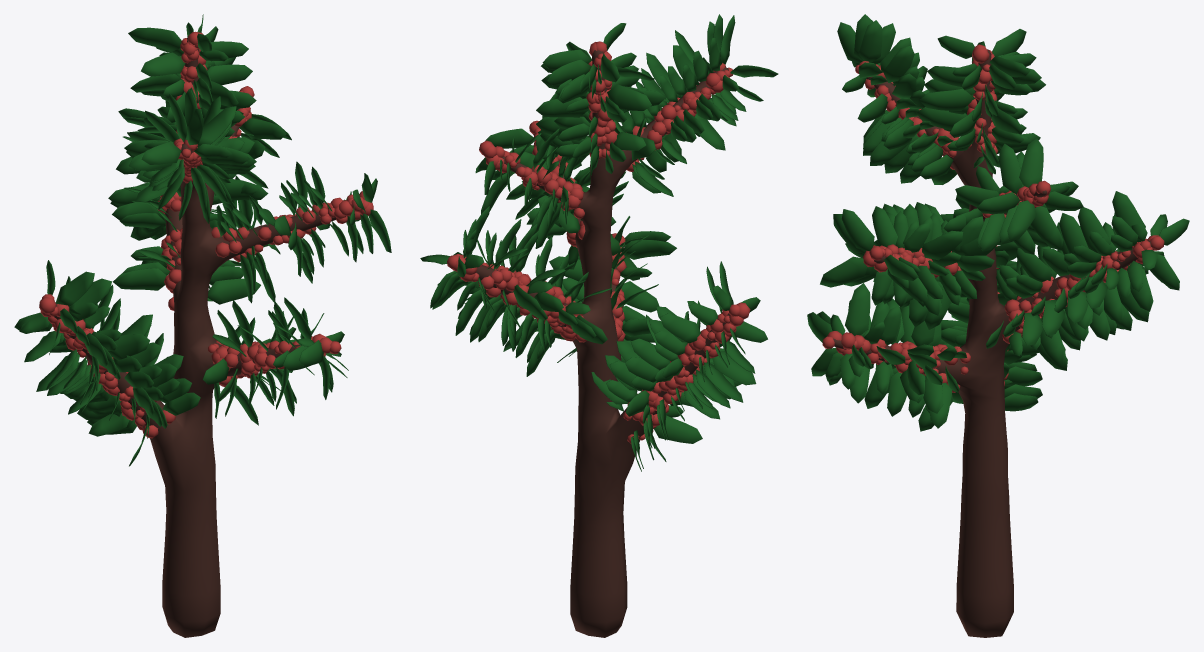
File: Planta_Cafe_Full.fbx
The picture shows the model from 3 angles, left to right: view 1: azimuth 30°, elevation 25°; view 2: azimuth 150°, elevation 25°; view 3: azimuth 270°, elevation 25°; orthographic projection. The views are drawn at different scales.
Parts seen in each view (by area): view 1: PlantaDeCafe.001, PlantaDeCafe.001|hoja.001|Dupli|282, PlantaDeCafe.001|hoja.001|Dupli|50, PlantaDeCafe.001|hoja.001|Dupli|276, PlantaDeCafe.001|hoja.001|Dupli|8, PlantaDeCafe.001|hoja.001|Dupli|101, PlantaDeCafe.001|hoja.001|Dupli|261, PlantaDeCafe.001|hoja.001|Dupli|16, PlantaDeCafe.001|hoja.001|Dupli|364, PlantaDeCafe.001|hoja.001|Dupli|73, PlantaDeCafe.001|hoja.001|Dupli|263, PlantaDeCafe.001|hoja.001|Dupli|299 (+4 smaller); view 2: PlantaDeCafe.001, PlantaDeCafe.001|hoja.001|Dupli|298, PlantaDeCafe.001|hoja.001|Dupli|418, PlantaDeCafe.001|hoja.001|Dupli|5, PlantaDeCafe.001|hoja.001|Dupli|88, PlantaDeCafe.001|hoja.001|Dupli|77, PlantaDeCafe.001|hoja.001|Dupli|400, PlantaDeCafe.001|hoja.001|Dupli|199, PlantaDeCafe.001|hoja.001|Dupli|45, PlantaDeCafe.001|hoja.001|Dupli|20, PlantaDeCafe.001|hoja.001|Dupli|72, PlantaDeCafe.001|hoja.001|Dupli|78 (+3 smaller); view 3: PlantaDeCafe.001, PlantaDeCafe.001|hoja.001|Dupli|410, PlantaDeCafe.001|hoja.001|Dupli|9, PlantaDeCafe.001|hoja.001|Dupli|201, PlantaDeCafe.001|hoja.001|Dupli|365, PlantaDeCafe.001|hoja.001|Dupli|362, PlantaDeCafe.001|hoja.001|Dupli|357, PlantaDeCafe.001|hoja.001|Dupli|202, PlantaDeCafe.001|hoja.001|Dupli|178, PlantaDeCafe.001|hoja.001|Dupli|264, PlantaDeCafe.001|hoja.001|Dupli|367, PlantaDeCafe.001|hoja.001|Dupli|190 (+18 smaller).
Boxes of the visible parts, left/top/right/bottom form: PlantaDeCafe.001: left=54, top=36, right=335, bottom=637; PlantaDeCafe.001|hoja.001|Dupli|282: left=113, top=268, right=166, bottom=290; PlantaDeCafe.001|hoja.001|Dupli|50: left=128, top=27, right=181, bottom=51; PlantaDeCafe.001|hoja.001|Dupli|276: left=207, top=278, right=260, bottom=304; PlantaDeCafe.001|hoja.001|Dupli|8: left=141, top=52, right=185, bottom=76; PlantaDeCafe.001|hoja.001|Dupli|101: left=55, top=271, right=94, bottom=305; PlantaDeCafe.001|hoja.001|Dupli|261: left=198, top=106, right=236, bottom=145; PlantaDeCafe.001|hoja.001|Dupli|16: left=207, top=64, right=252, bottom=85; PlantaDeCafe.001|hoja.001|Dupli|364: left=239, top=118, right=286, bottom=139; PlantaDeCafe.001|hoja.001|Dupli|73: left=108, top=334, right=149, bottom=360; PlantaDeCafe.001|hoja.001|Dupli|263: left=141, top=142, right=181, bottom=164; PlantaDeCafe.001|hoja.001|Dupli|299: left=88, top=413, right=129, bottom=436; PlantaDeCafe.001: left=475, top=50, right=729, bottom=637; PlantaDeCafe.001|hoja.001|Dupli|298: left=654, top=415, right=702, bottom=443; PlantaDeCafe.001|hoja.001|Dupli|418: left=621, top=239, right=676, bottom=259; PlantaDeCafe.001|hoja.001|Dupli|5: left=607, top=84, right=651, bottom=110; PlantaDeCafe.001|hoja.001|Dupli|88: left=660, top=313, right=700, bottom=343; PlantaDeCafe.001|hoja.001|Dupli|77: left=712, top=351, right=756, bottom=385; PlantaDeCafe.001|hoja.001|Dupli|400: left=621, top=281, right=659, bottom=312; PlantaDeCafe.001|hoja.001|Dupli|199: left=485, top=128, right=533, bottom=148; PlantaDeCafe.001|hoja.001|Dupli|45: left=547, top=59, right=591, bottom=85; PlantaDeCafe.001|hoja.001|Dupli|20: left=536, top=97, right=589, bottom=117; PlantaDeCafe.001|hoja.001|Dupli|72: left=630, top=338, right=669, bottom=370; PlantaDeCafe.001|hoja.001|Dupli|78: left=704, top=362, right=743, bottom=402; PlantaDeCafe.001: left=833, top=49, right=1153, bottom=637; PlantaDeCafe.001|hoja.001|Dupli|410: left=845, top=283, right=870, bottom=335; PlantaDeCafe.001|hoja.001|Dupli|9: left=919, top=88, right=974, bottom=110; PlantaDeCafe.001|hoja.001|Dupli|201: left=820, top=256, right=867, bottom=287; PlantaDeCafe.001|hoja.001|Dupli|365: left=1019, top=138, right=1043, bottom=187; PlantaDeCafe.001|hoja.001|Dupli|362: left=1030, top=206, right=1063, bottom=250; PlantaDeCafe.001|hoja.001|Dupli|357: left=999, top=143, right=1022, bottom=194; PlantaDeCafe.001|hoja.001|Dupli|202: left=841, top=209, right=874, bottom=251; PlantaDeCafe.001|hoja.001|Dupli|178: left=922, top=230, right=963, bottom=260; PlantaDeCafe.001|hoja.001|Dupli|264: left=858, top=20, right=882, bottom=62; PlantaDeCafe.001|hoja.001|Dupli|367: left=1007, top=200, right=1036, bottom=241; PlantaDeCafe.001|hoja.001|Dupli|190: left=872, top=206, right=898, bottom=247.
Bounding box in the file's own units: 187 × 200 × 342.
